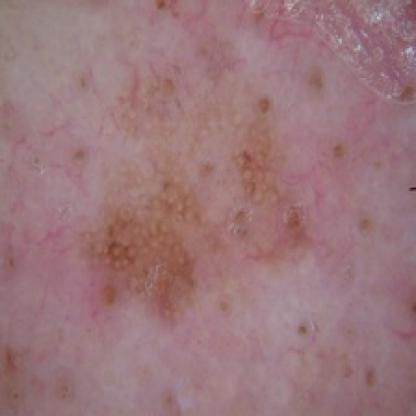malignant: (54, 87, 334, 316)
